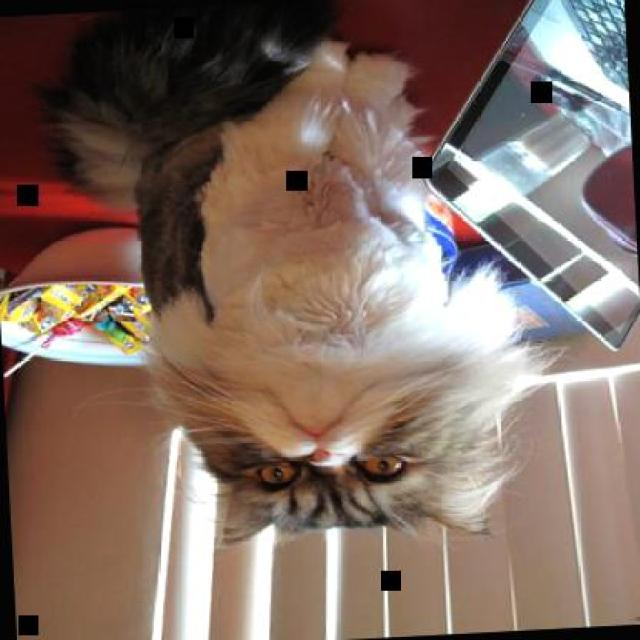cat: (50, 0, 552, 557)
